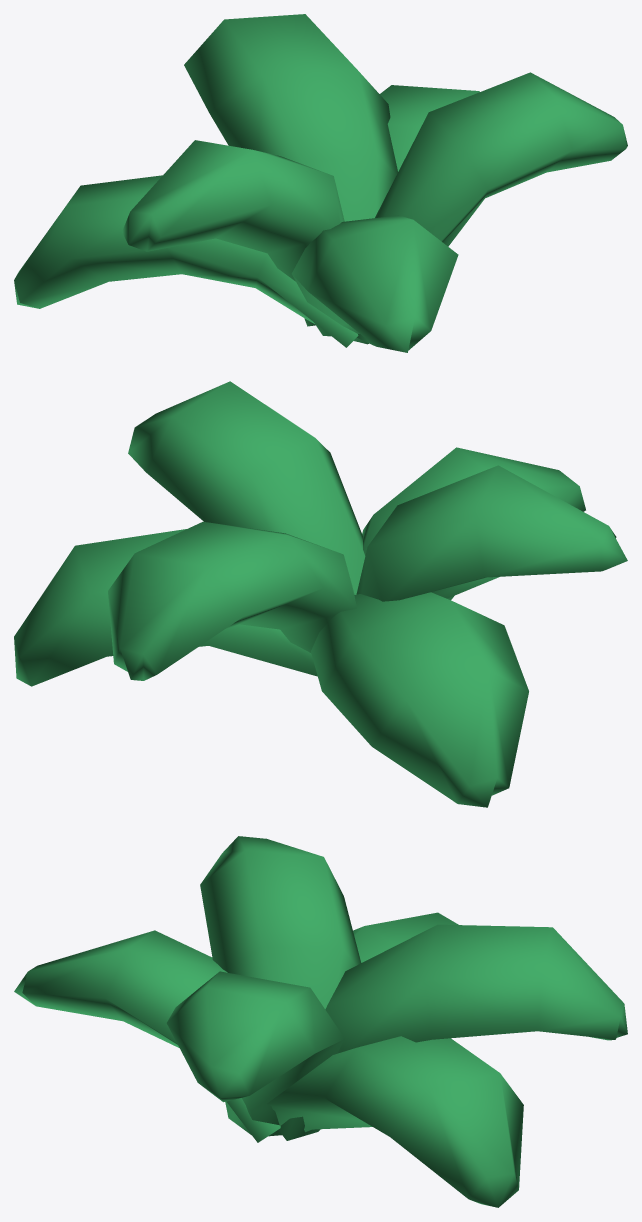
The model's file is Herb_C_01_LOD2.gltf.
3 views of the same model, one above another, from view 1: azimuth 30°, elevation 25°; view 2: azimuth 150°, elevation 25°; view 3: azimuth 270°, elevation 25° (orthographic). The views are drawn at different scales.
Parts seen in each view (by area): view 1: Herb_C_01_LOD2_Cylinder.042; view 2: Herb_C_01_LOD2_Cylinder.042; view 3: Herb_C_01_LOD2_Cylinder.042.
Part boxes in pixels (<box>): Herb_C_01_LOD2_Cylinder.042: <box>14,14,627,352</box>; Herb_C_01_LOD2_Cylinder.042: <box>14,381,627,807</box>; Herb_C_01_LOD2_Cylinder.042: <box>14,836,627,1207</box>.
Bounding box in the file's own units: 5.12 × 2.3 × 5.68.
1 material, 1 textured.
